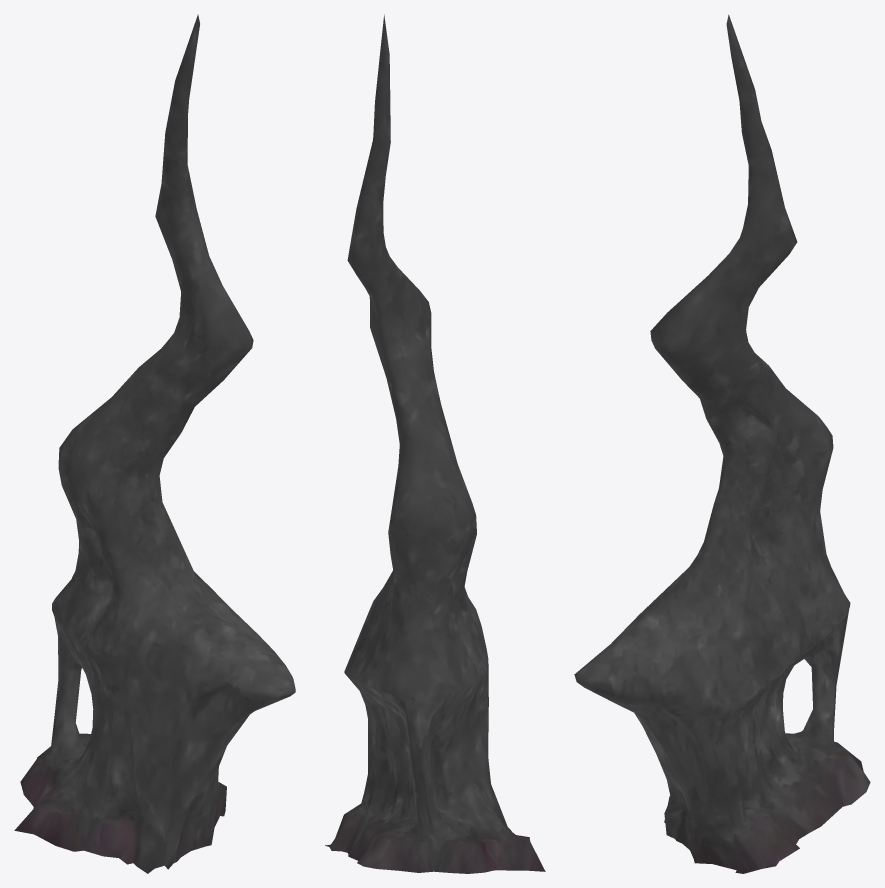
3 renders of one model, left to right at view 1: azimuth 30°, elevation 25°; view 2: azimuth 150°, elevation 25°; view 3: azimuth 270°, elevation 25°, orthographic. The views are drawn at different scales.
Parts seen in each view (by area): view 1: SM_WitherSpine_Med_Placeholder_LOD0; view 2: SM_WitherSpine_Med_Placeholder_LOD0; view 3: SM_WitherSpine_Med_Placeholder_LOD0.
Boxes of the visible parts, left/top/right/bottom form: SM_WitherSpine_Med_Placeholder_LOD0: left=14, top=14, right=295, bottom=873; SM_WitherSpine_Med_Placeholder_LOD0: left=325, top=14, right=545, bottom=873; SM_WitherSpine_Med_Placeholder_LOD0: left=574, top=14, right=870, bottom=873.
Bounding box in the file's own units: 0.8924 × 3.34 × 1.05.
Materials: 1 (1 with a texture image).
